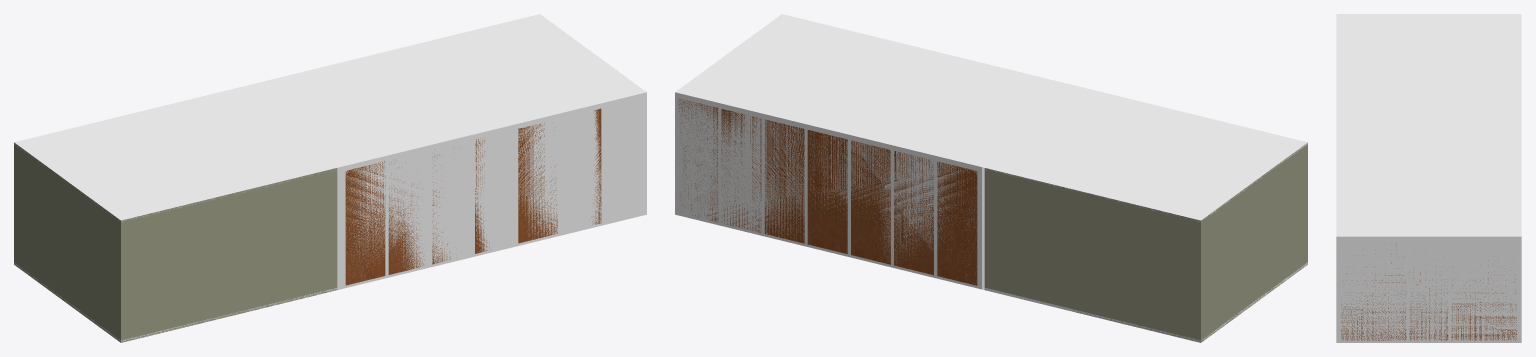
The model's file is recording_studio.glb.
The picture shows the model from 3 angles, left to right: view 1: azimuth 30°, elevation 25°; view 2: azimuth 150°, elevation 25°; view 3: azimuth 270°, elevation 25°; orthographic projection. The views are drawn at different scales.
Parts seen in each view (by area): view 1: Material3 (×2), Material2 (×6); view 2: Material3 (×2), Material2 (×8); view 3: Material3 (×2), Material2 (×2).
Part boxes in pixels (bbox=[...]): Material3 (×2): bbox=[14, 14, 646, 342]; Material2 (×6): bbox=[14, 108, 601, 342]; Material3 (×2): bbox=[675, 14, 1307, 342]; Material2 (×8): bbox=[678, 99, 1307, 342]; Material3 (×2): bbox=[1336, 14, 1521, 342]; Material2 (×2): bbox=[1341, 245, 1516, 340].
Bounding box in the file's own units: 648 × 144 × 228.
Materials: 45 (15 with a texture image).
